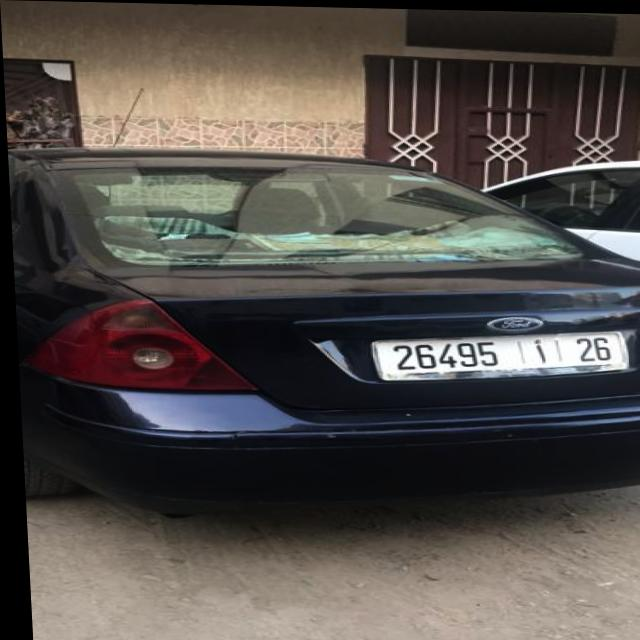License-Plate: (367, 329, 623, 379)
